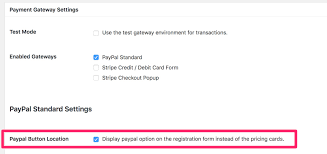CheckBox: (91, 27, 102, 36), (92, 64, 101, 72), (91, 54, 101, 61), (92, 135, 99, 142)
